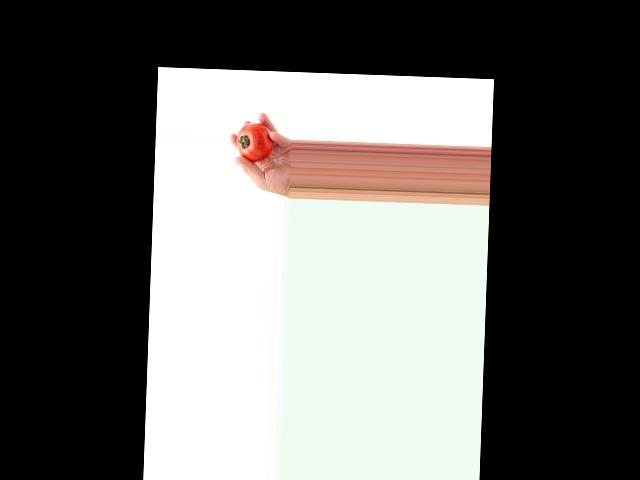tomato: (236, 121, 274, 162)
